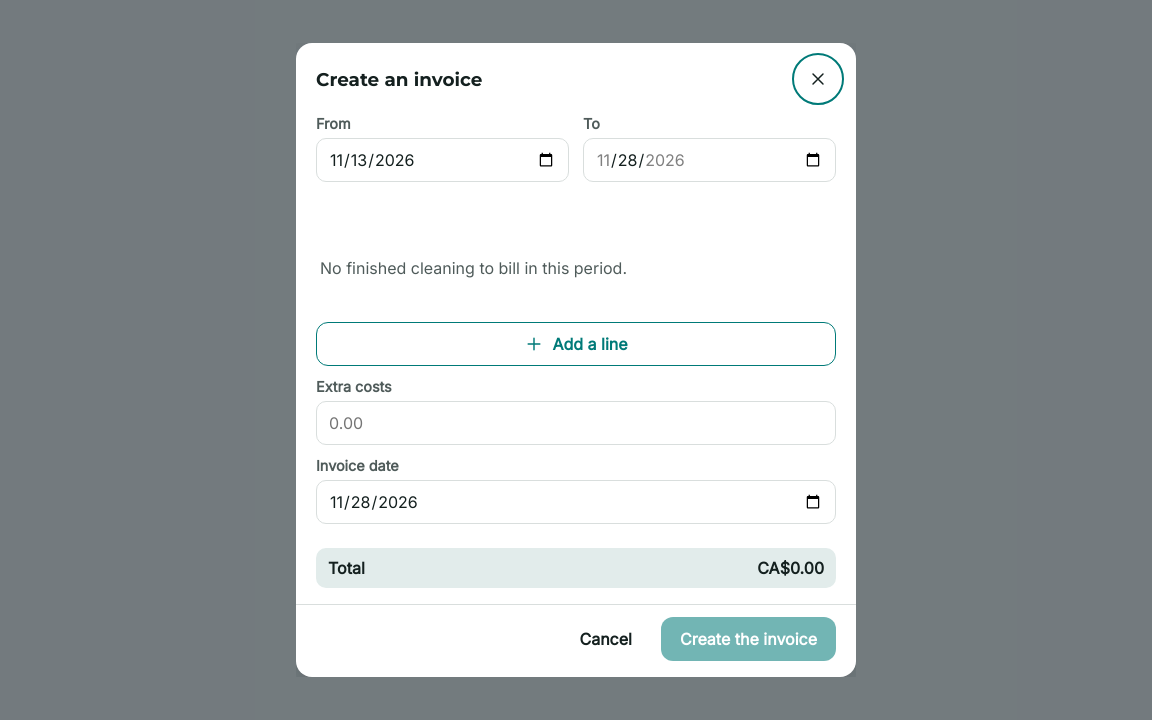
Test: BillDialog › says when there is nothing to bill, and still allows manual lines
Expected: the text "No finished cleaning to bill in this period." is shown, [320,258,627,278]
Click the button "Add a line" at {"x": 576, "y": 344}, box [316,322,836,366]
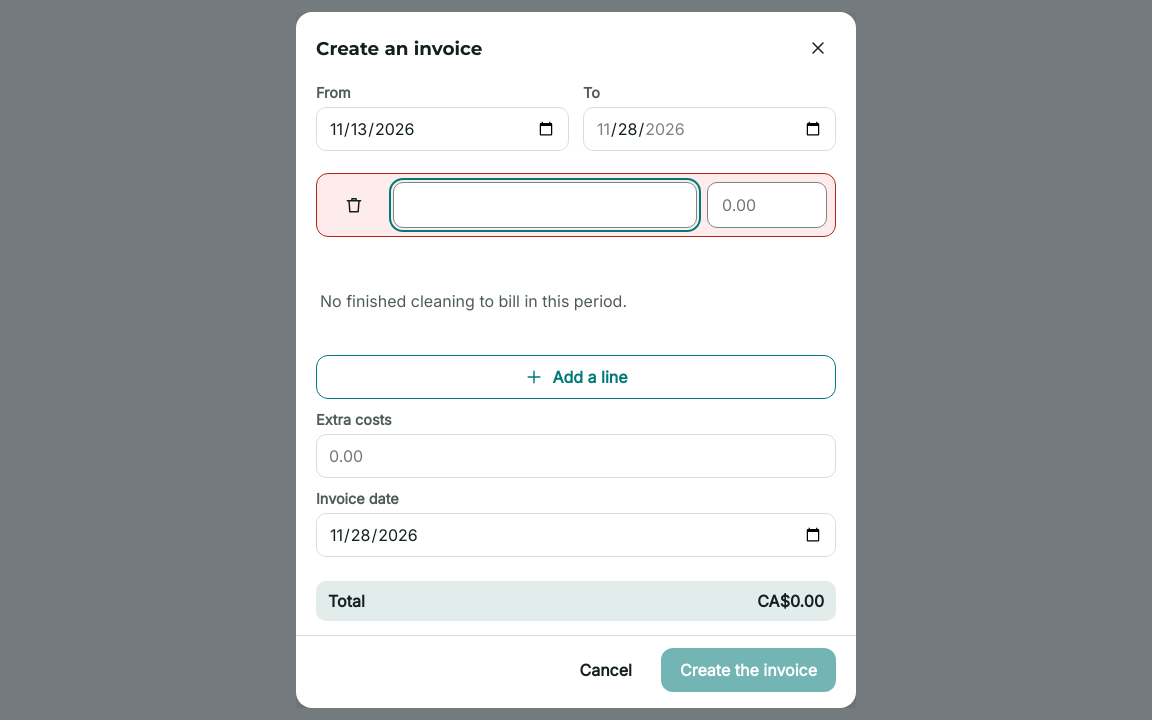
Type "Après-construction" into the field named "Description" at {"x": 545, "y": 205}, box [393,182,697,228]
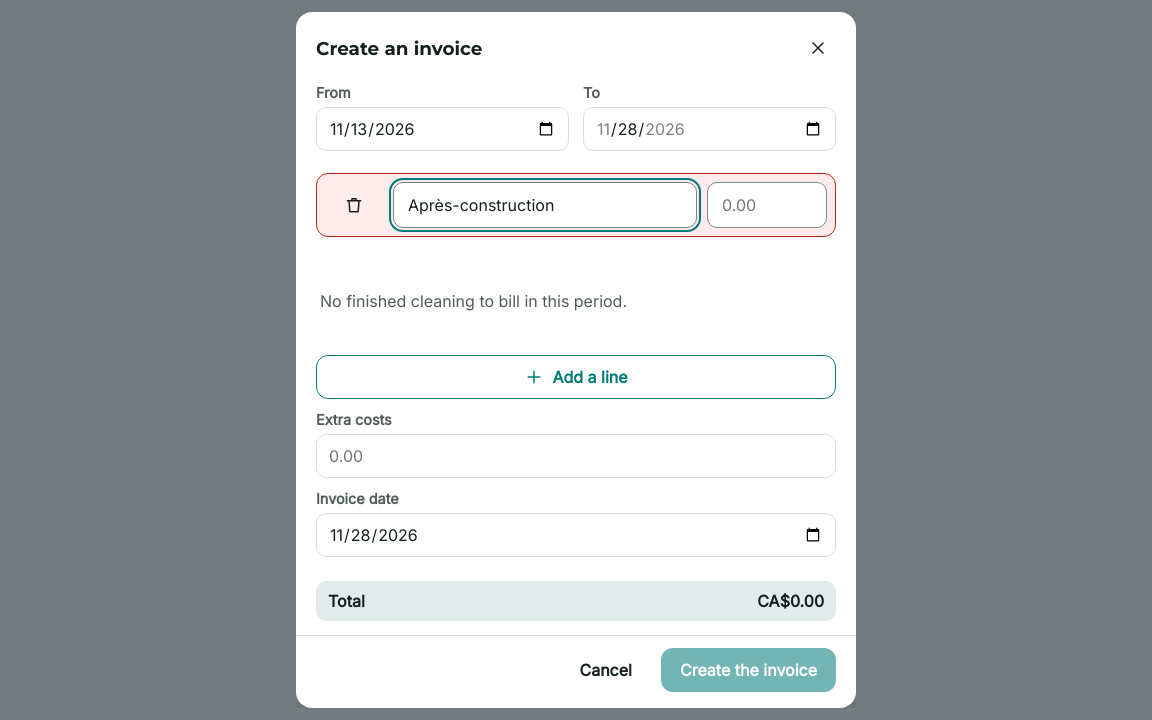
Type "850" into the field named "Amount" at {"x": 767, "y": 205}, box [707,182,827,228]
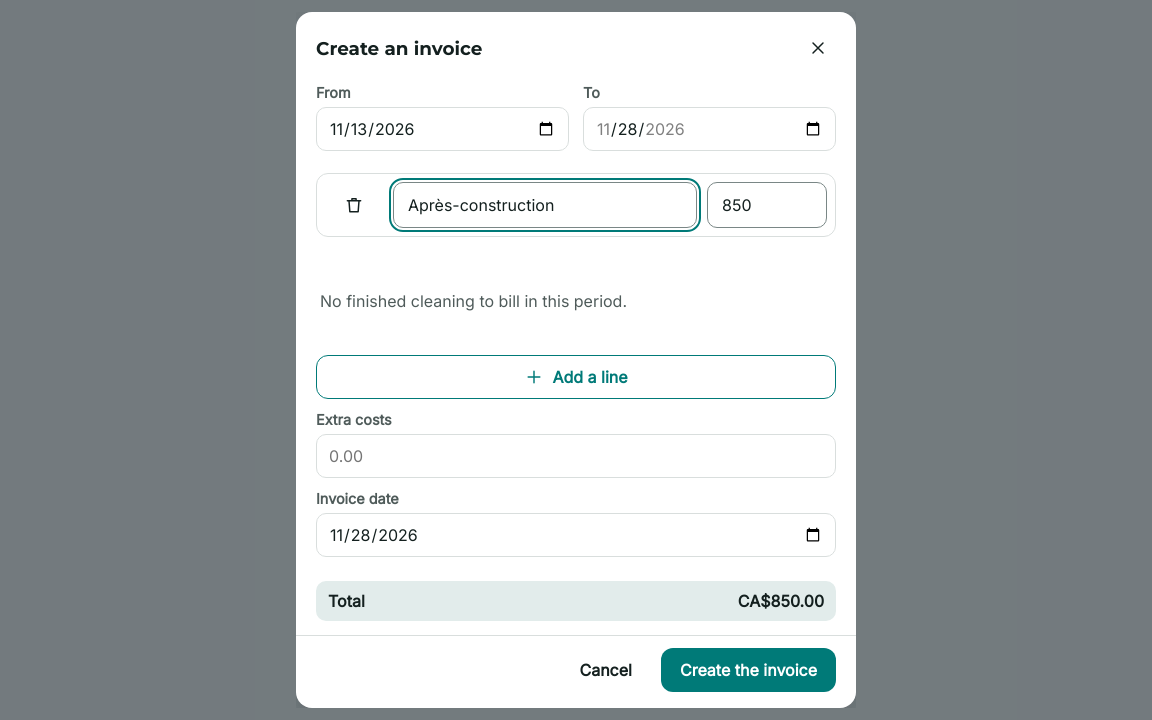
Expected: the button "Create the invoice" is enabled, [661,648,836,692]
